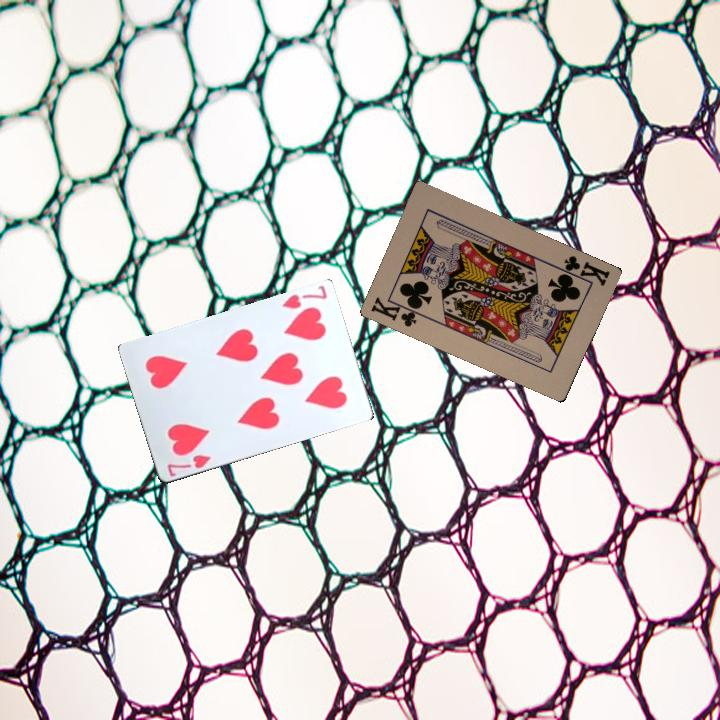7h: (278, 282, 330, 311), (163, 450, 213, 479)
Kc: (555, 251, 612, 289), (367, 293, 425, 330)
